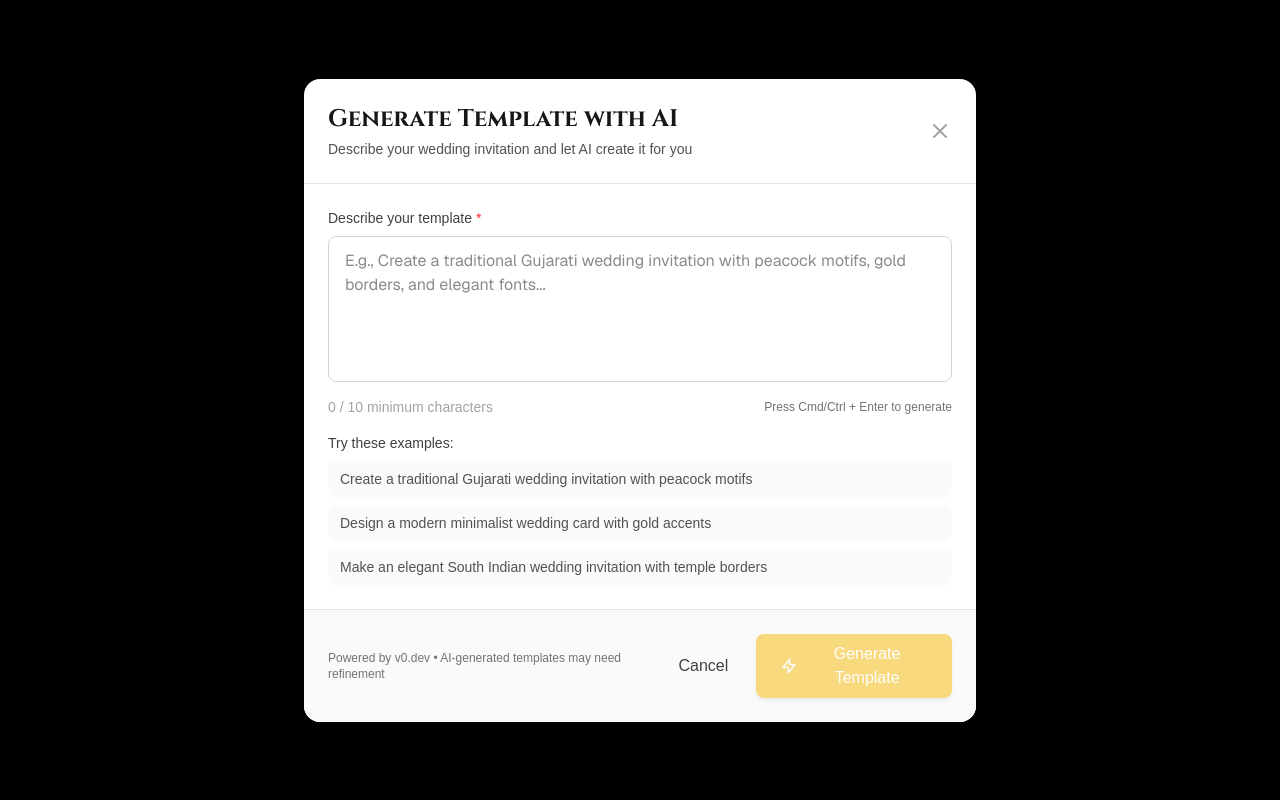
Scenario: AI Prompt Dialog › Error Handling › shows error message on generation failure
Step 1. Replace the text in the text box with placeholder "Create a traditional" with "Valid prompt for testing" → {"x": 640, "y": 308}, box [328,236,952,382]
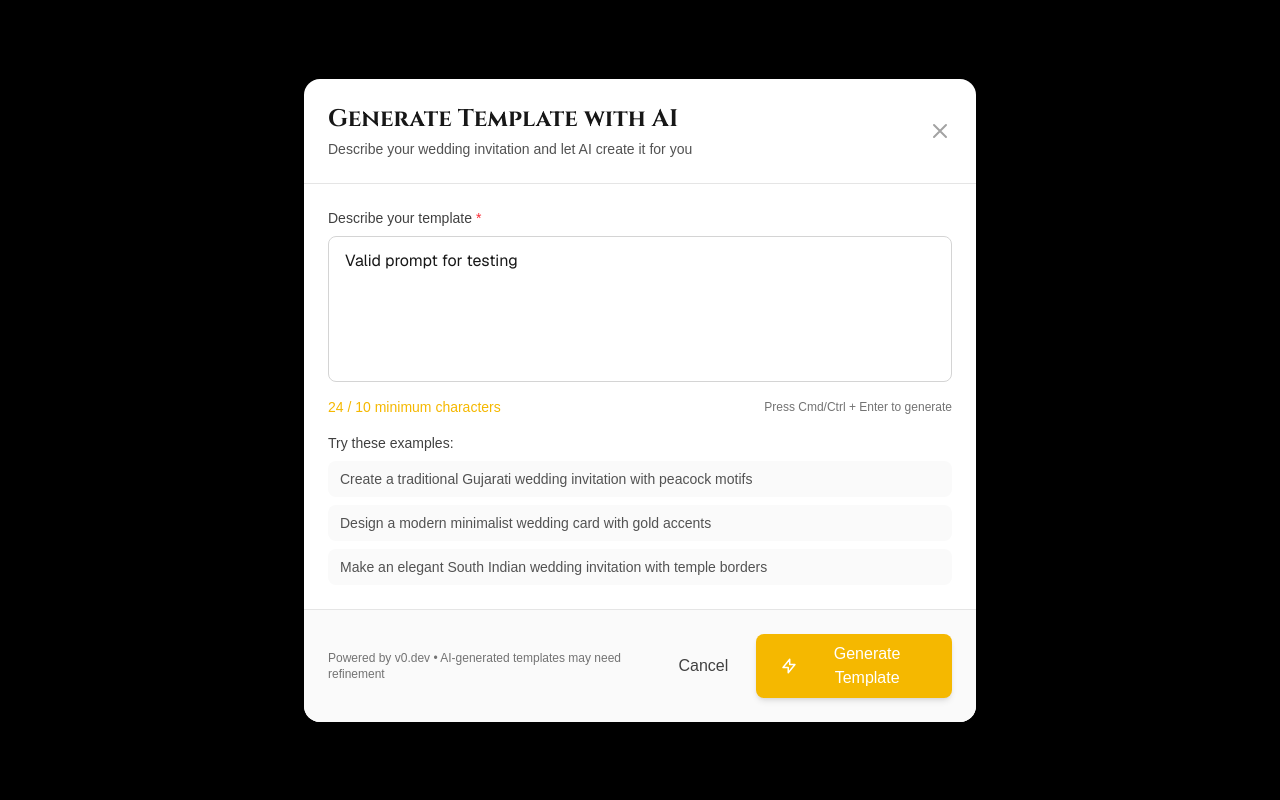
Step 2. Click the button "Generate Template" → {"x": 854, "y": 666}, box [756,634,952,698]
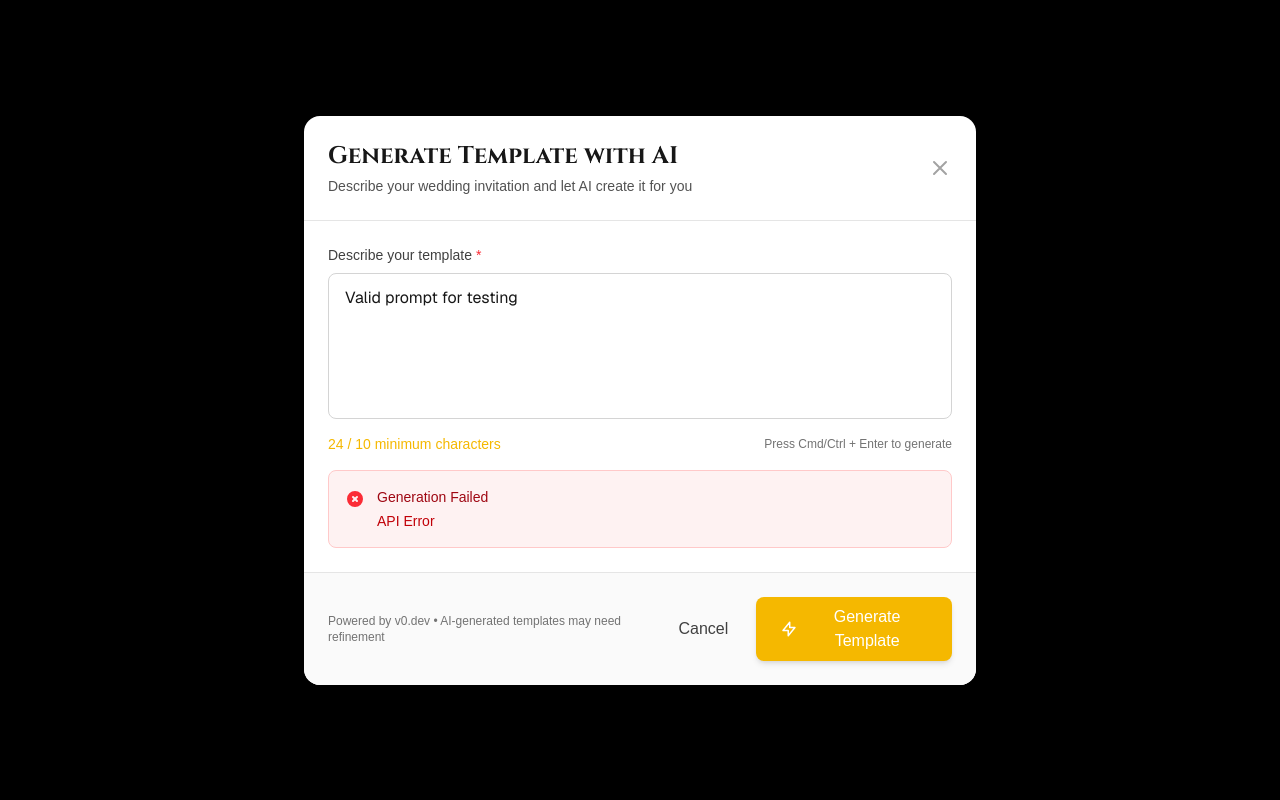
Now the heading "Generation Failed" is shown, box [377,486,488,506]
Now the text "API Error" is shown, box [377,512,435,528]
